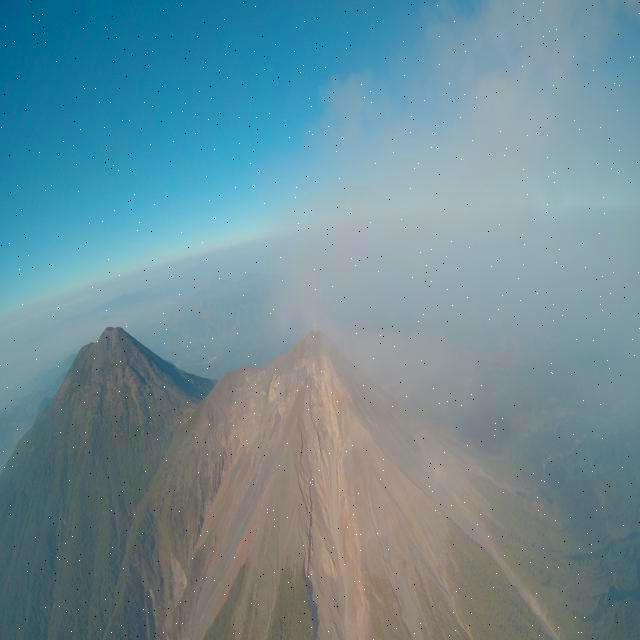Plume: (318, 0, 640, 394)
Summit: (264, 328, 382, 427)
